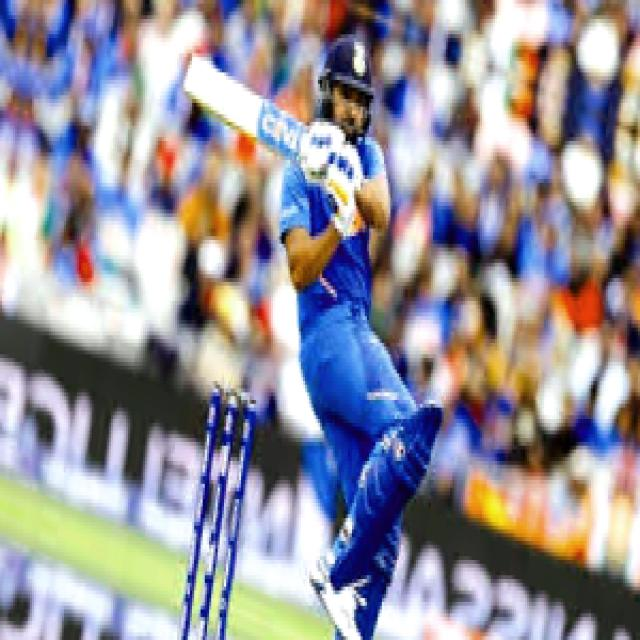toe: (173, 54, 214, 108)
